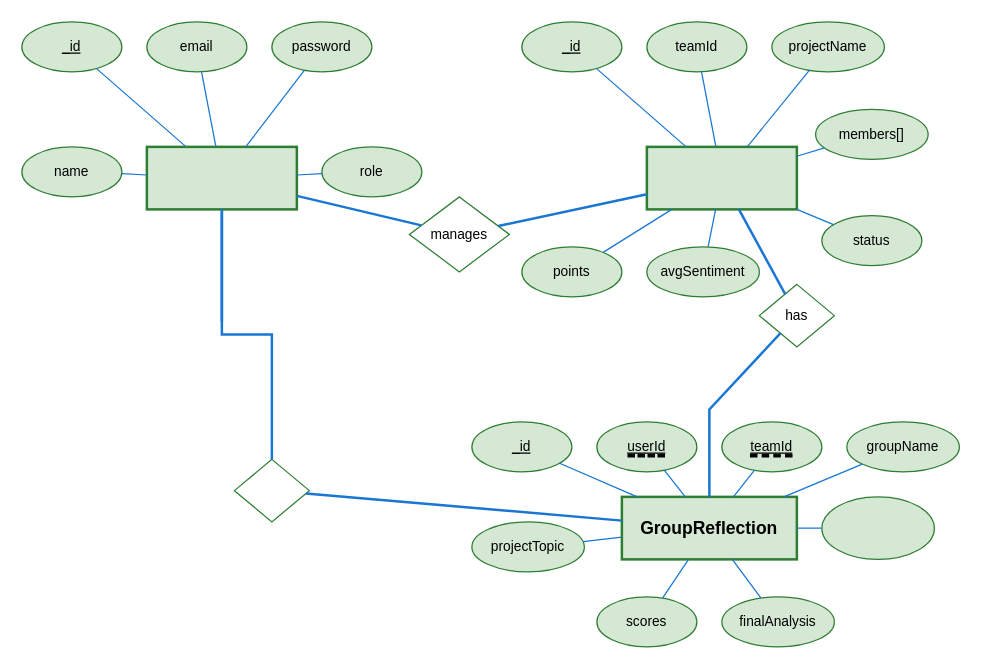
Some shapes in this 981 by 669 pixel diagram are drawn without their labels. Each missing label, with the centre of its shape:
conversation History[]: (877,527)
creates: (271,490)
Team: (721,177)
User: (221,177)
